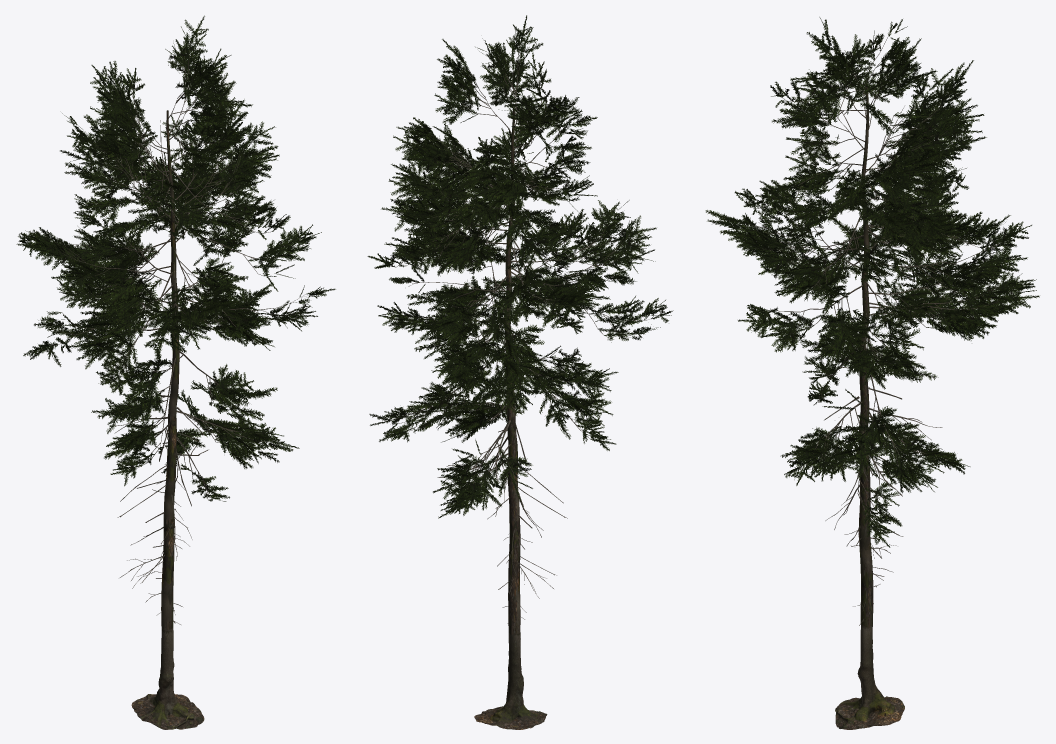
The model's file is fir-b-lod2.glb.
3 renders of one model, left to right at view 1: azimuth 30°, elevation 25°; view 2: azimuth 150°, elevation 25°; view 3: azimuth 270°, elevation 25°, orthographic. The views are drawn at different scales.
Parts seen in each view (by area): view 1: fir_b_lod2; view 2: fir_b_lod2; view 3: fir_b_lod2.
Boxes of the visible parts, box(x1,y1,x2,y2) form: fir_b_lod2: box(16, 15, 335, 729); fir_b_lod2: box(367, 15, 673, 729); fir_b_lod2: box(705, 17, 1039, 729).
Bounding box in the file's own units: 5.63 × 14.08 × 6.08.
4 materials, 4 textured.
